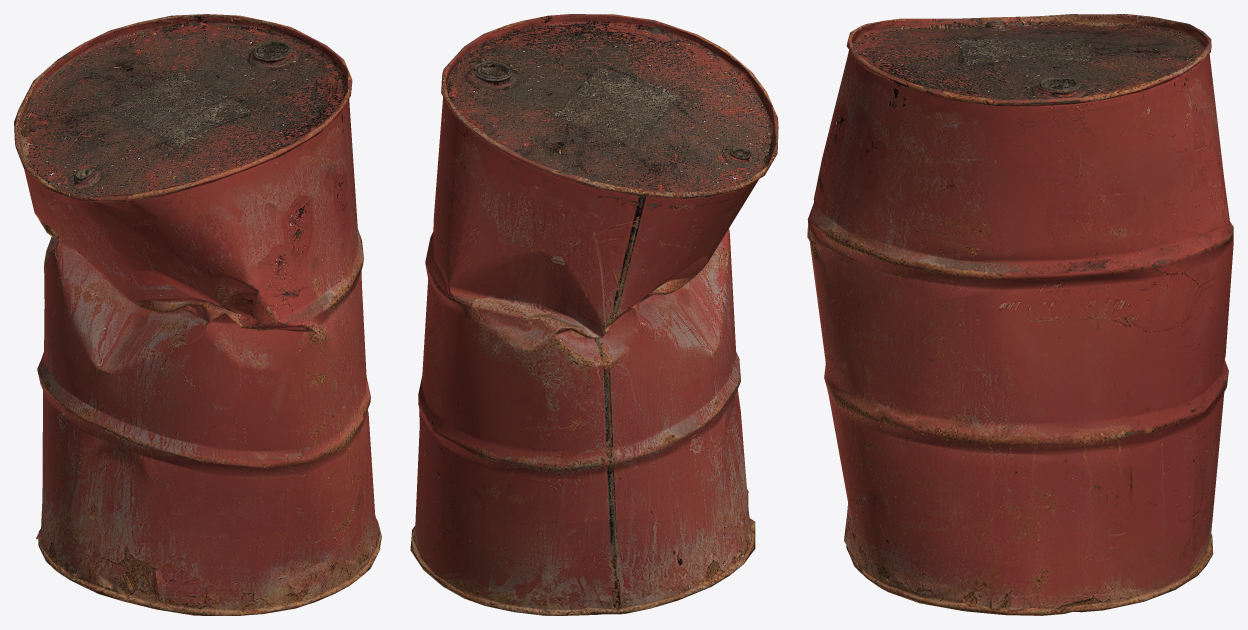
File: SM_Ind_Aba_Storage_Barrel_Metal_Buckled_01.gltf
3 renders of one model, left to right at view 1: azimuth 30°, elevation 25°; view 2: azimuth 150°, elevation 25°; view 3: azimuth 270°, elevation 25°, orthographic. The views are drawn at different scales.
Parts seen in each view (by area): view 1: SM_Ind_Aba_Storage_Barrel_Metal_Buckled_01; view 2: SM_Ind_Aba_Storage_Barrel_Metal_Buckled_01; view 3: SM_Ind_Aba_Storage_Barrel_Metal_Buckled_01.
Part boxes in pixels (x1=…): SM_Ind_Aba_Storage_Barrel_Metal_Buckled_01: x1=14, y1=14, x2=381, y2=615; SM_Ind_Aba_Storage_Barrel_Metal_Buckled_01: x1=410, y1=14, x2=778, y2=615; SM_Ind_Aba_Storage_Barrel_Metal_Buckled_01: x1=807, y1=14, x2=1233, y2=615.
Size of the model in its own units: 0.6196 by 0.8737 by 0.6648.
1 material, 1 textured.
